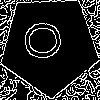O: (24, 20, 70, 61)
